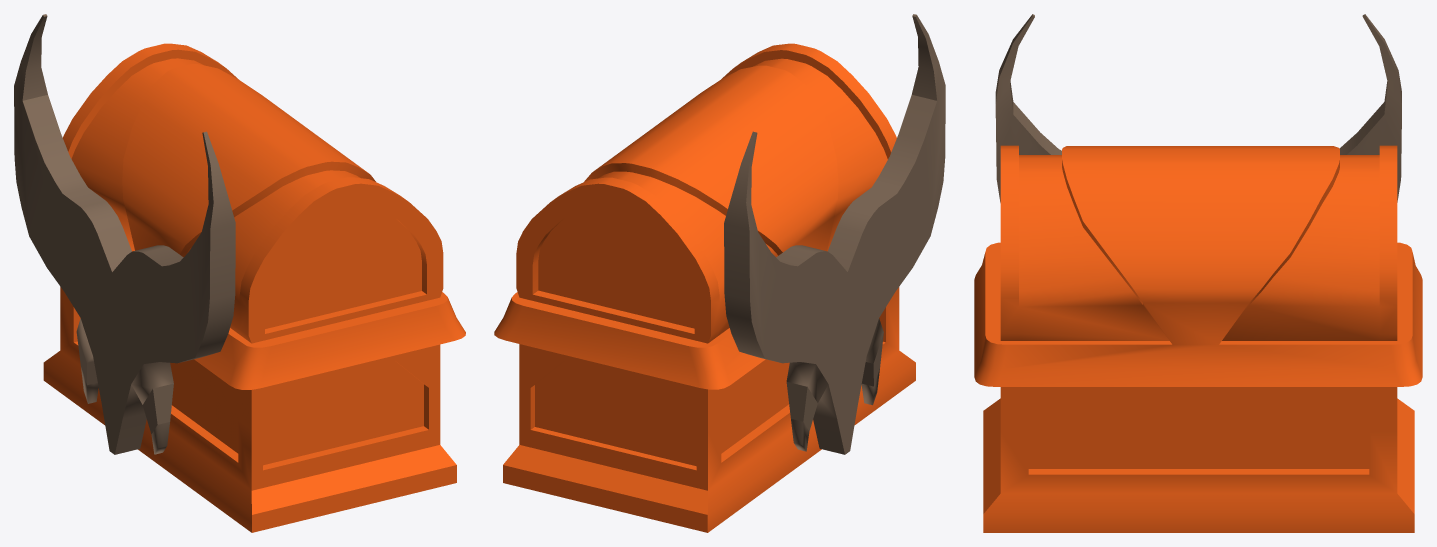
Rendered from Chest(NonMimic).fbx.
3 views of the same model, side by side, from view 1: azimuth 30°, elevation 25°; view 2: azimuth 150°, elevation 25°; view 3: azimuth 270°, elevation 25° (orthographic). The views are drawn at different scales.
Parts seen in each view (by area): view 1: LastChest, LestCHestEmblem; view 2: LastChest, LestCHestEmblem; view 3: LastChest, LestCHestEmblem.
Part boxes in pixels (bbox=[...]): LastChest: bbox=[43, 43, 465, 532]; LestCHestEmblem: bbox=[14, 14, 235, 454]; LastChest: bbox=[494, 43, 915, 532]; LestCHestEmblem: bbox=[724, 14, 945, 454]; LastChest: bbox=[974, 145, 1422, 532]; LestCHestEmblem: bbox=[995, 14, 1401, 202].
Bounding box in the file's own units: 41.96 × 61.79 × 62.27.
